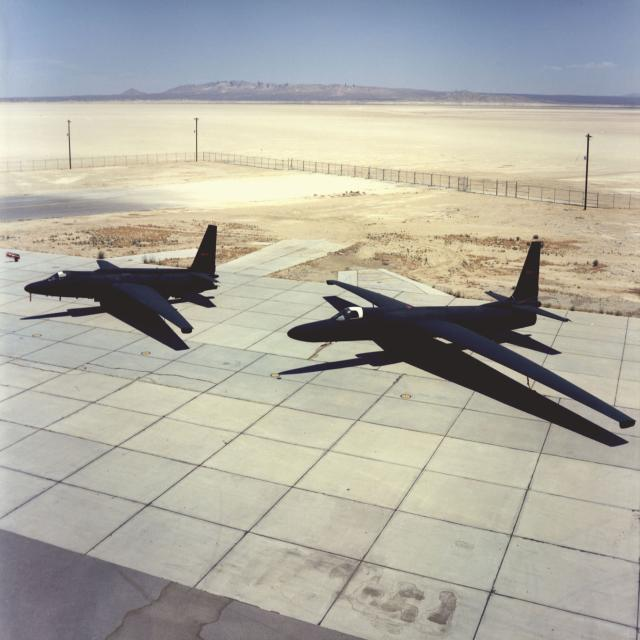MIL_Plane: (287, 240, 637, 429), (66, 224, 180, 334)
